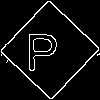P: (25, 25, 59, 71)
